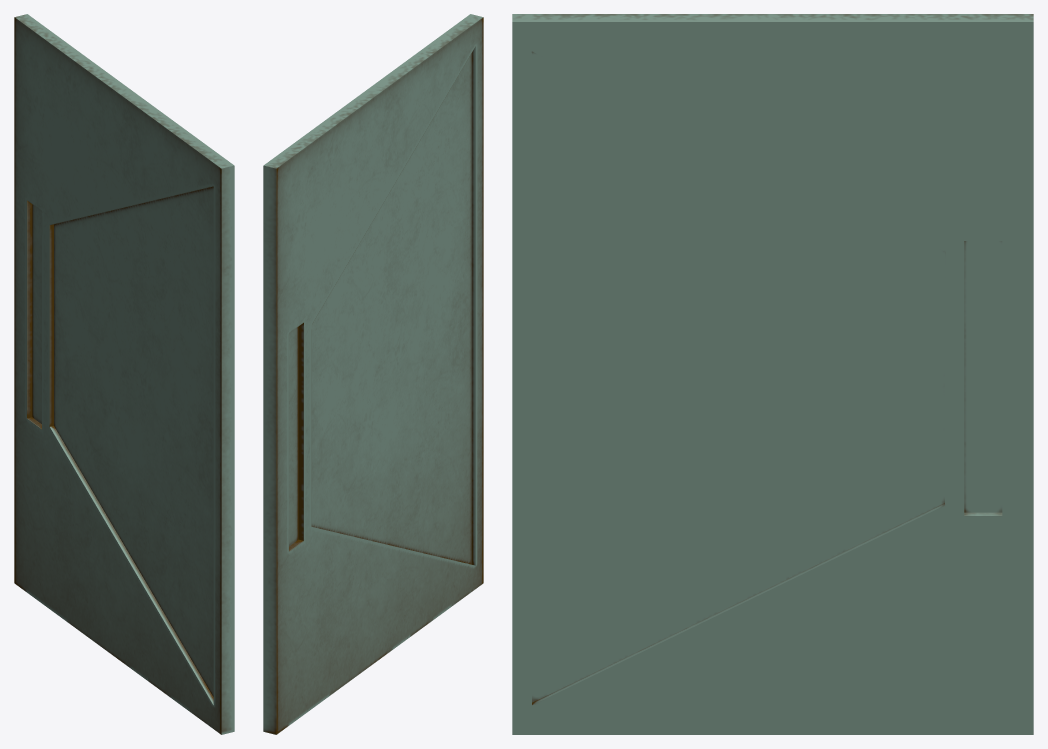
The model's file is Door.fbx.
3 renders of one model, left to right at view 1: azimuth 30°, elevation 25°; view 2: azimuth 150°, elevation 25°; view 3: azimuth 270°, elevation 25°, orthographic. The views are drawn at different scales.
Visible parts, largest first — view 1: Cube.006; view 2: Cube.006; view 3: Cube.006.
Boxes of the visible parts, left/top/right/bottom form: Cube.006: left=14, top=14, right=234, bottom=734; Cube.006: left=263, top=14, right=483, bottom=734; Cube.006: left=512, top=14, right=1033, bottom=734.
Bounding box in the file's own units: 6.34 × 264 × 175.
